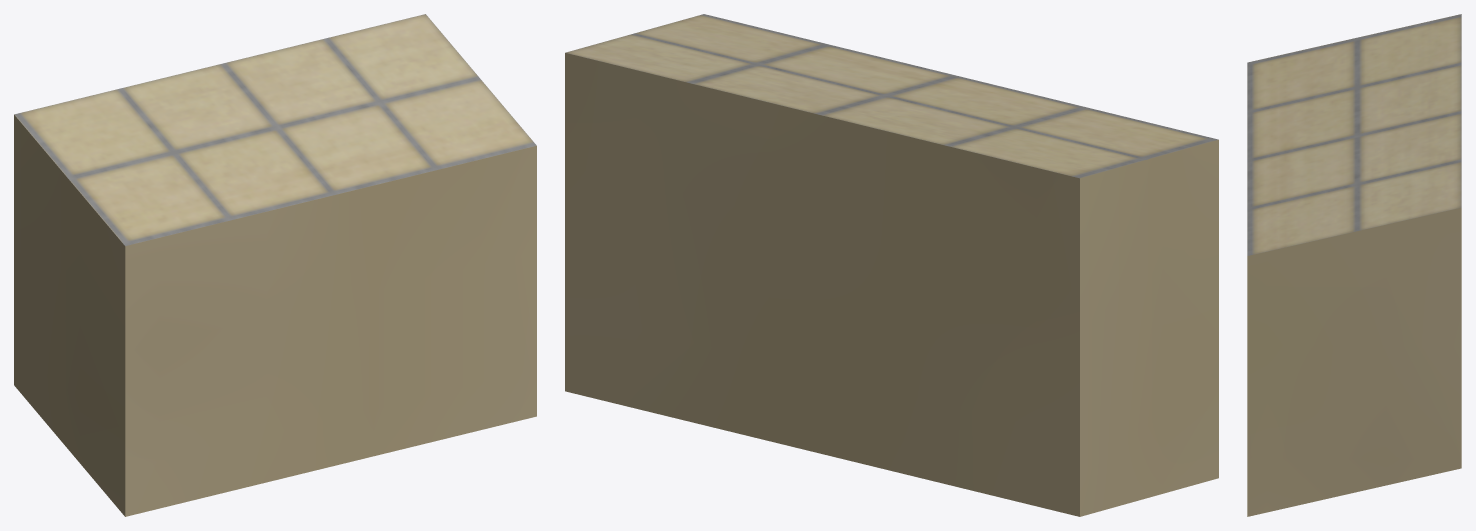
Rendered from set_floor_03_slope_end_half.fbx.
The picture shows the model from 3 angles, left to right: view 1: azimuth 30°, elevation 25°; view 2: azimuth 150°, elevation 25°; view 3: azimuth 270°, elevation 25°; orthographic projection. The views are drawn at different scales.
Parts seen in each view (by area): view 1: set_floor_03_slope_end_half; view 2: set_floor_03_slope_end_half; view 3: set_floor_03_slope_end_half.
Boxes of the visible parts, bbox=[...] form: set_floor_03_slope_end_half: bbox=[14, 14, 536, 516]; set_floor_03_slope_end_half: bbox=[565, 14, 1218, 516]; set_floor_03_slope_end_half: bbox=[1247, 14, 1461, 516].
Bounding box in the file's own units: 100 × 74.53 × 46.77.
